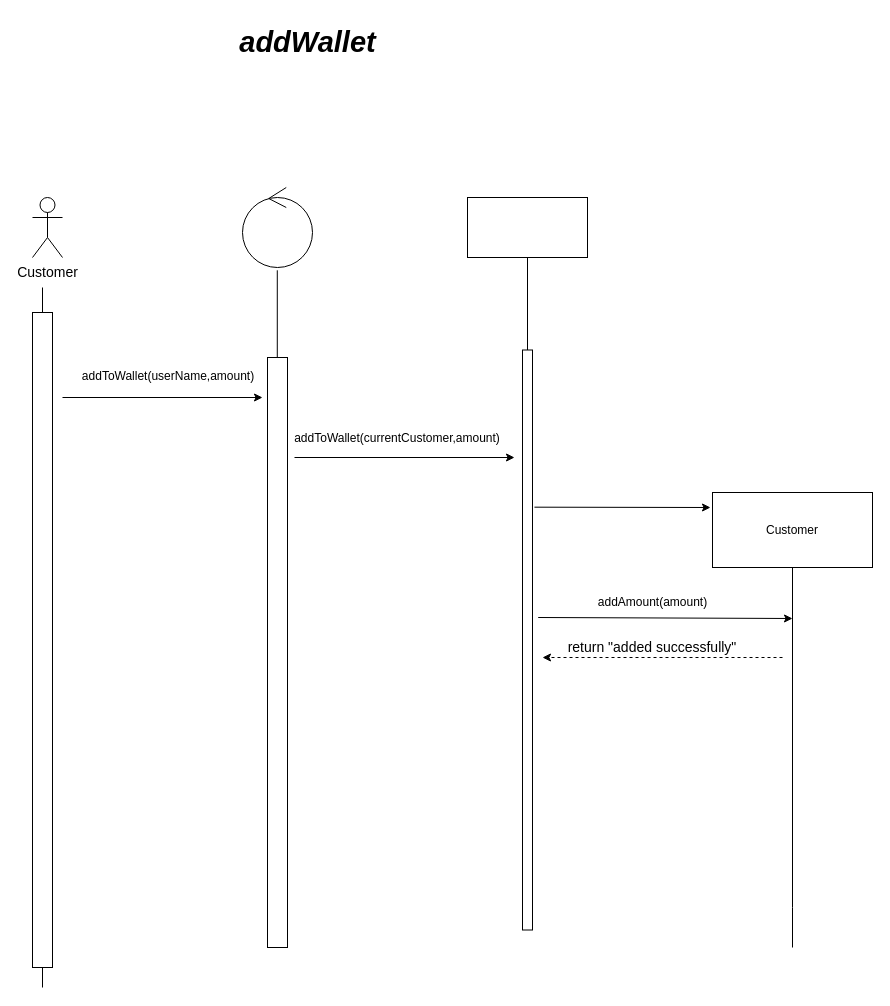
This 890x1006 diagram has some shape labels left out. Each missing label, with the centre of its shape:
Wallet Controller: pixel 277 227
WalletBSL: pixel 527 227
